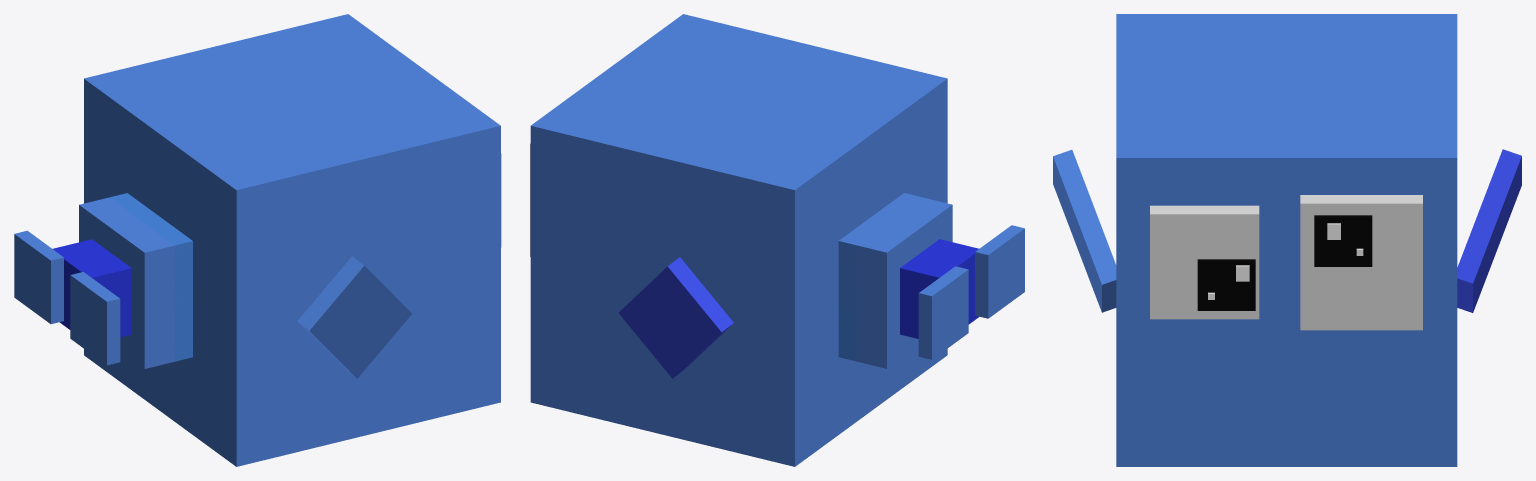
File: fish.dae
3 renders of one model, left to right at view 1: azimuth 30°, elevation 25°; view 2: azimuth 150°, elevation 25°; view 3: azimuth 270°, elevation 25°, orthographic. The views are drawn at different scales.
Visible parts, largest first — view 1: body, Cube, Cube_009, Cube_013, Cube_014, Cube_010, Cube_012; view 2: body, Cube, Cube_000, Cube_014, Cube_013, Cube_010, Cube_012; view 3: body, Cube_001, Cube_002, Cube_000, Cube_009, Cube_006, Cube_003.
Part boxes in pixels (left/top/right/bottom): body: left=84, top=14, right=500, bottom=466; Cube: left=79, top=197, right=192, bottom=368; Cube_009: left=297, top=256, right=411, bottom=378; Cube_013: left=70, top=272, right=120, bottom=365; Cube_014: left=14, top=230, right=63, bottom=324; Cube_010: left=53, top=239, right=131, bottom=337; Cube_012: left=109, top=193, right=192, bottom=361; body: left=530, top=14, right=947, bottom=466; Cube: left=838, top=193, right=952, bottom=368; Cube_000: left=618, top=257, right=733, bottom=378; Cube_014: left=918, top=266, right=968, bottom=359; Cube_013: left=975, top=225, right=1024, bottom=318; Cube_010: left=900, top=239, right=979, bottom=338; Cube_012: left=838, top=242, right=856, bottom=361; body: left=1116, top=14, right=1457, bottom=466; Cube_001: left=1300, top=195, right=1422, bottom=330; Cube_002: left=1150, top=205, right=1259, bottom=319; Cube_000: left=1457, top=149, right=1521, bottom=312; Cube_009: left=1053, top=149, right=1116, bottom=312; Cube_006: left=1197, top=259, right=1255, bottom=310; Cube_003: left=1314, top=215, right=1372, bottom=266.
Bounding box in the file's own units: 2.95 × 2.75 × 2.
